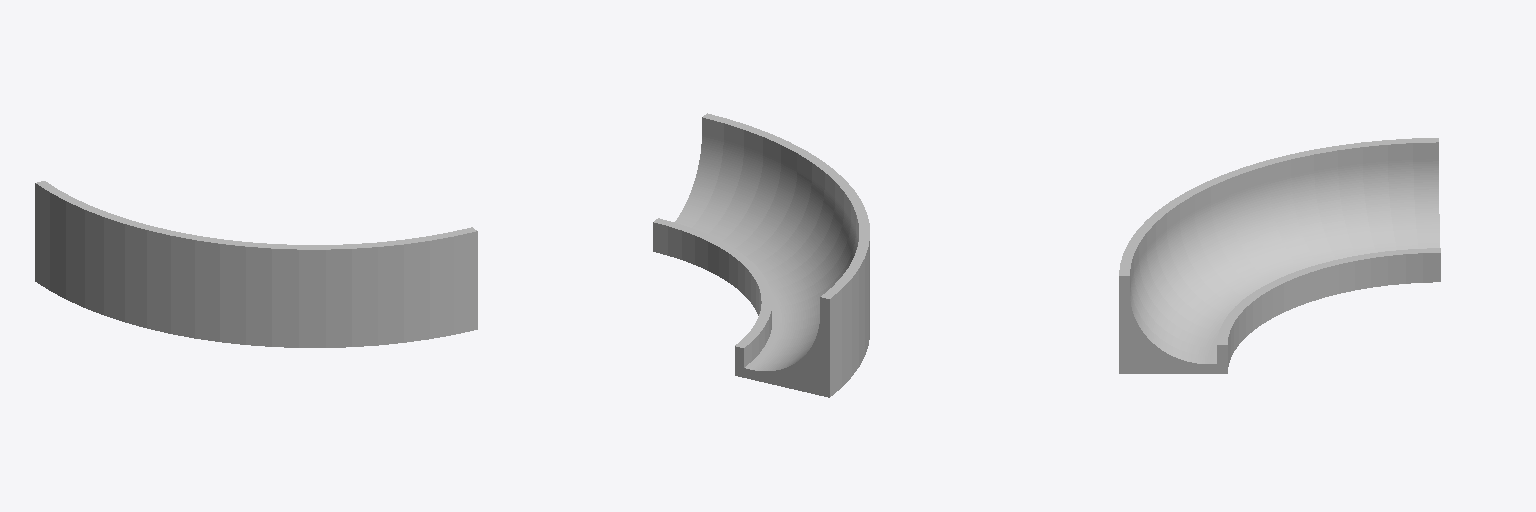
Rendered from BankedTurn.obj.
3 views of the same model, side by side, from view 1: azimuth 30°, elevation 25°; view 2: azimuth 150°, elevation 25°; view 3: azimuth 270°, elevation 25° (orthographic).
Visible parts, largest first — view 1: BankedTurn; view 2: BankedTurn; view 3: BankedTurn.
Boxes of the visible parts, x1,y1,x2,y2 form: BankedTurn: [35, 181, 477, 347]; BankedTurn: [653, 113, 869, 397]; BankedTurn: [1119, 138, 1440, 373].
Size of the model in its own units: 6 by 2 by 5.92.